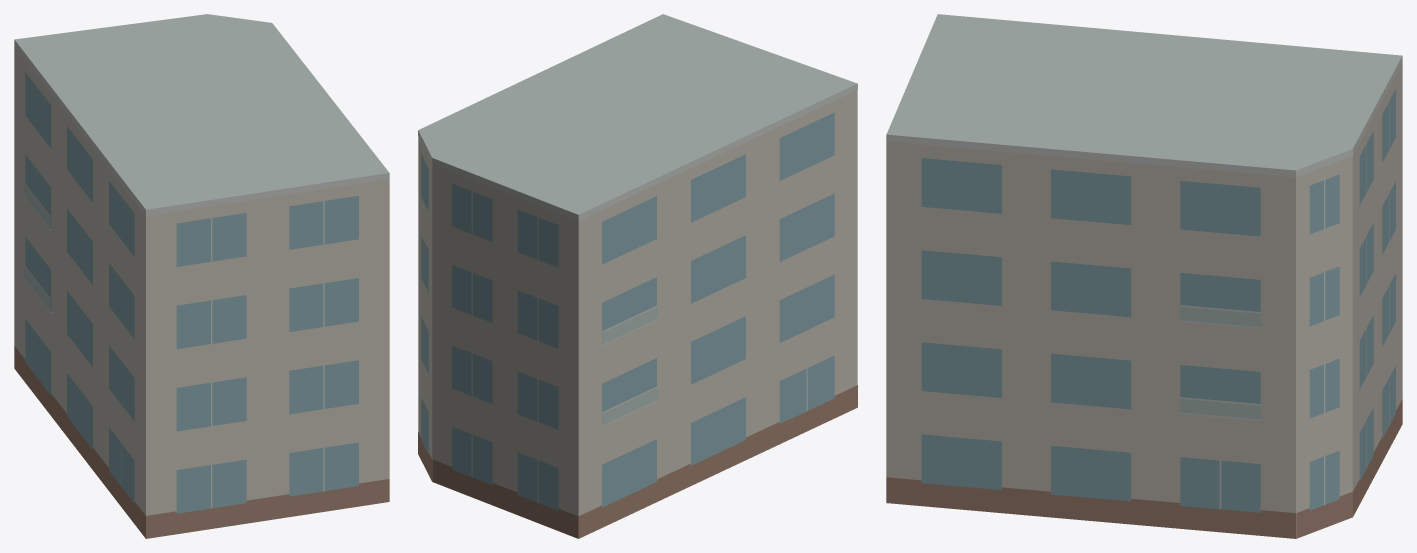
Rendered from survey-upis-32664841.glb.
3 views of the same model, side by side, from view 1: azimuth 30°, elevation 25°; view 2: azimuth 150°, elevation 25°; view 3: azimuth 270°, elevation 25° (orthographic). The views are drawn at different scales.
Parts seen in each view (by area): view 1: survey-upis-32664841.tmp; view 2: survey-upis-32664841.tmp; view 3: survey-upis-32664841.tmp.
Part boxes in pixels (x1,y1,x2,y2): survey-upis-32664841.tmp: (14,14,389,538); survey-upis-32664841.tmp: (418,14,857,538); survey-upis-32664841.tmp: (886,14,1402,538).
Bounding box in the file's own units: 11.67 × 12.8 × 16.26.
